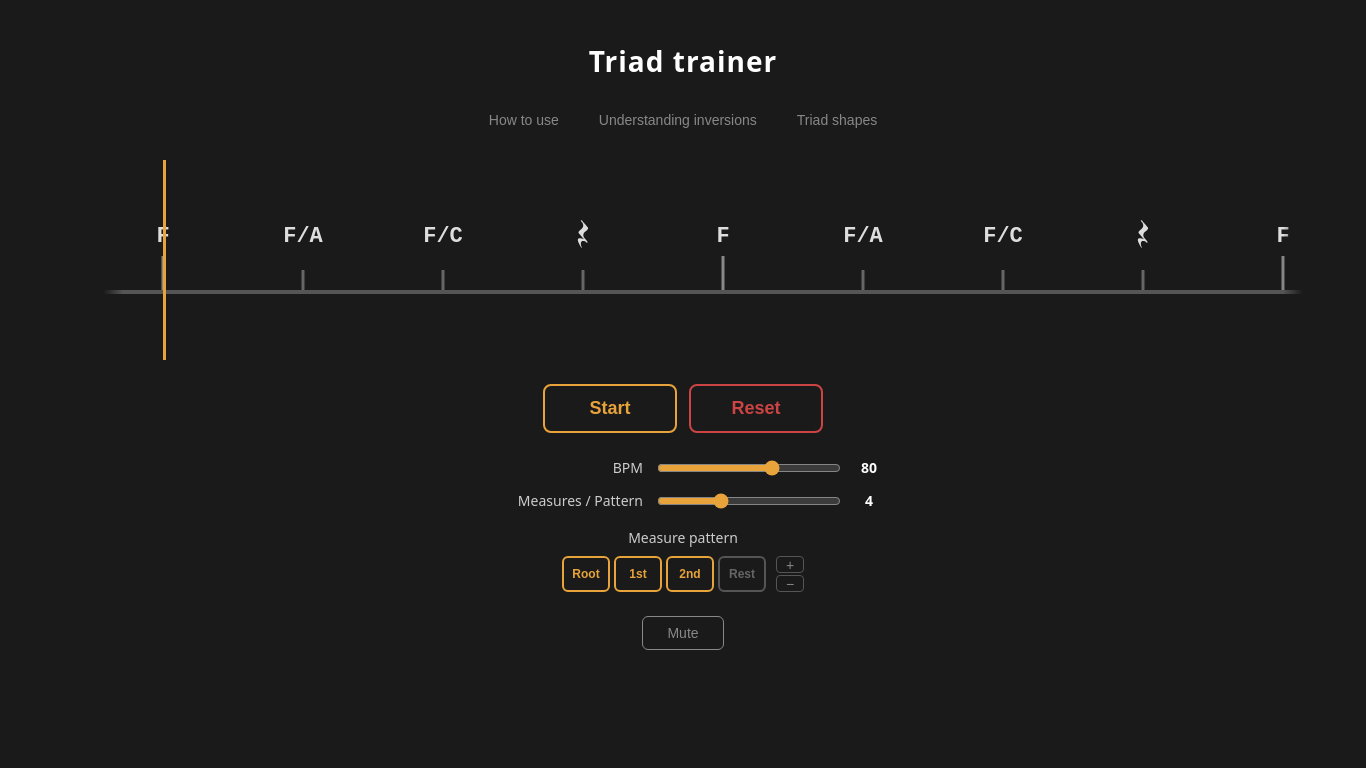
Test case: App › returns to idle state after clicking Stop
What coordinates should you click on to do the following:
click the button "Start"
I would click on:
 (610, 408)
Its box is [543,384,677,433].
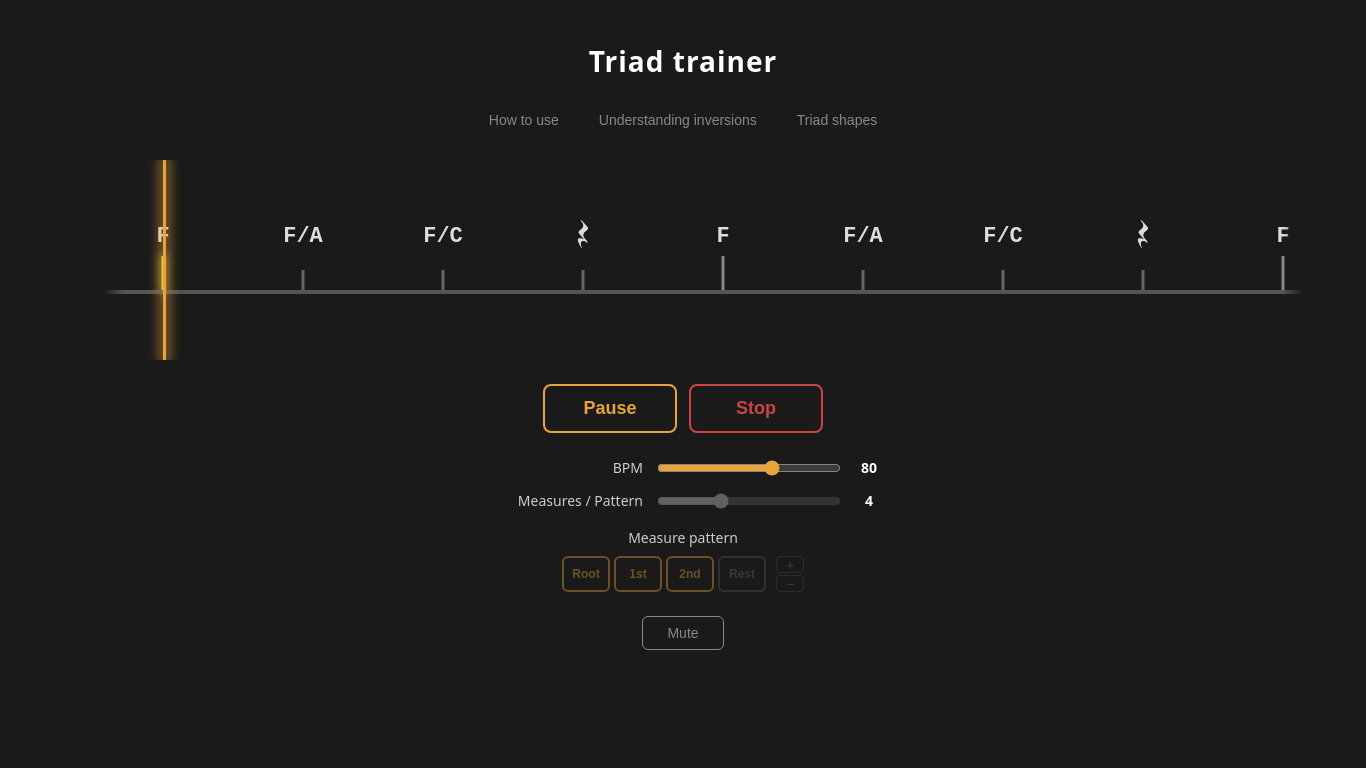
What coordinates should you click on to do the following:
click the button "Stop"
I would click on:
 (756, 408)
Its box is [689,384,823,433].
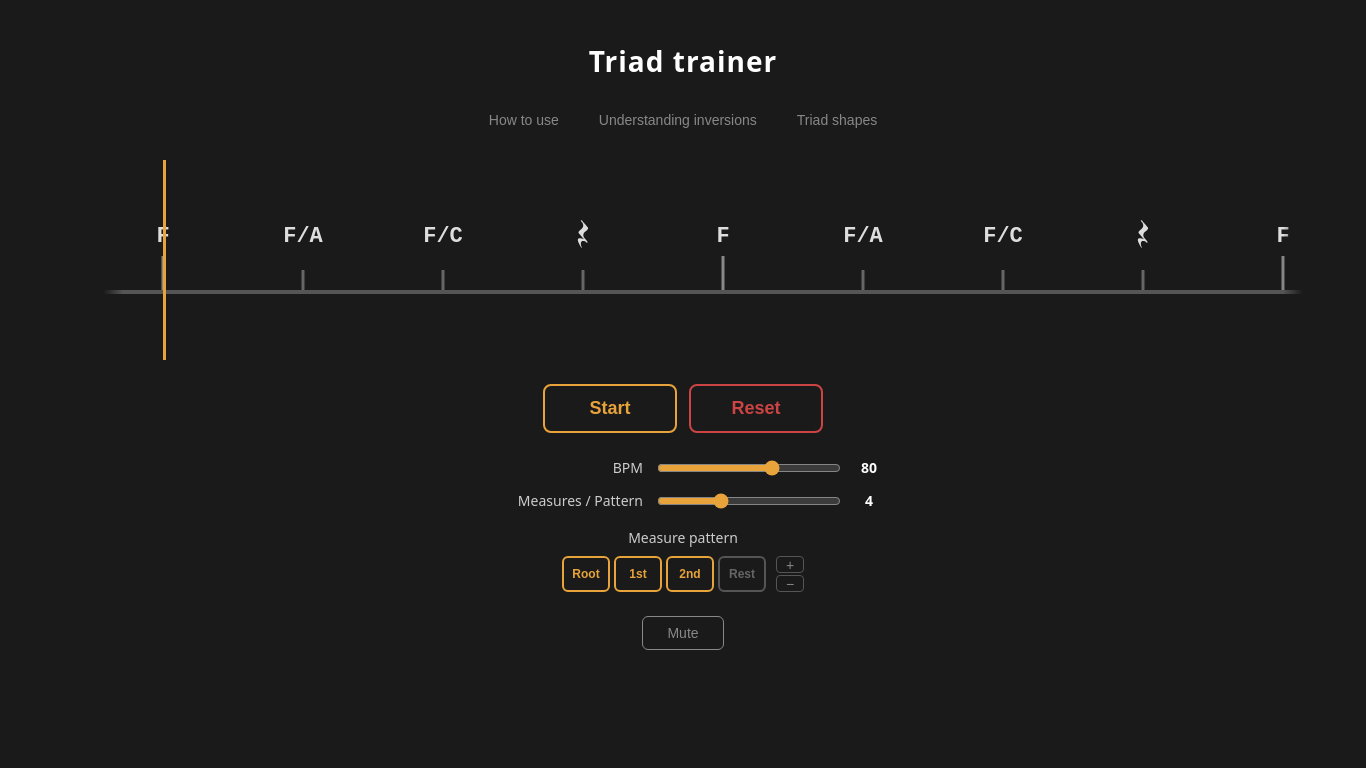
Check: the button "Start" is shown, box [543,384,677,433]
Check: the button "Reset" is shown, box [689,384,823,433]
